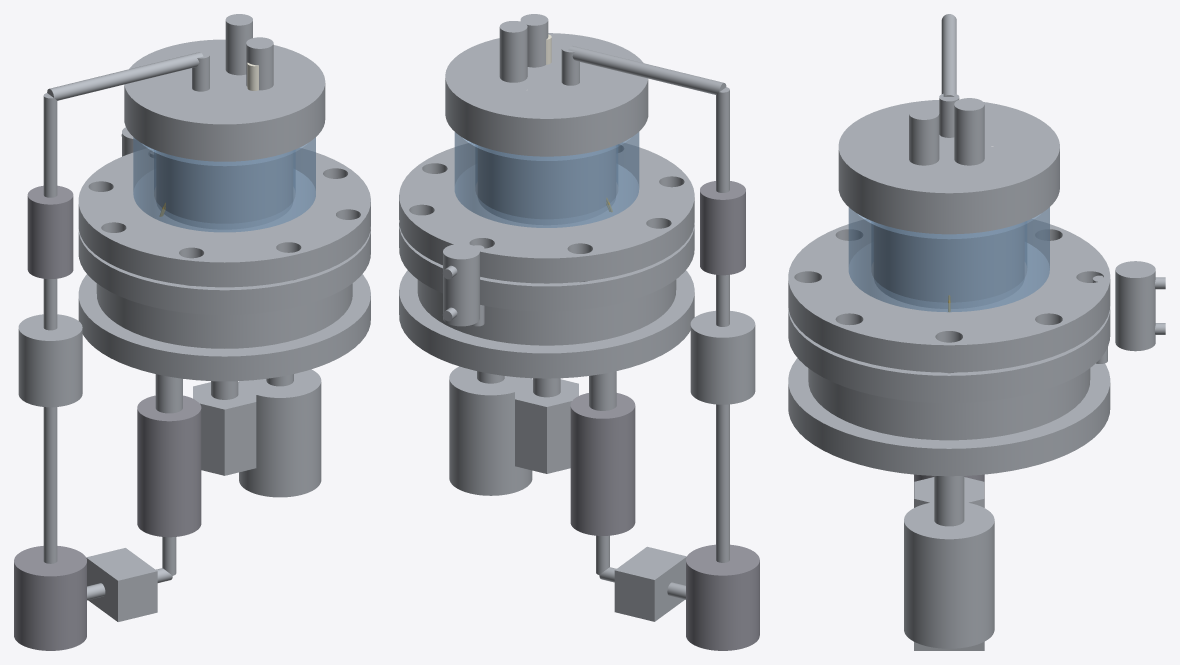
File: dfm_cell.glb
The picture shows the model from 3 angles, left to right: view 1: azimuth 30°, elevation 25°; view 2: azimuth 150°, elevation 25°; view 3: azimuth 270°, elevation 25°; orthographic projection. The views are drawn at different scales.
Visible parts, largest first — view 1: cell_body_316L, front_volume_316L, lid_316L, water_jacket, PdAg_element_350C, capacitance_gauge, metal_bellows_pump, recycle_return_line, buffer_volume, all_metal_valve_He_manifold, PdAg_return_element, mass_flow_meter_flux_regressor (+2 smaller); view 2: cell_body_316L, front_volume_316L, lid_316L, water_jacket, PdAg_element_350C, capacitance_gauge, metal_bellows_pump, recycle_return_line, buffer_volume, all_metal_valve_He_manifold, mass_flow_meter_flux_regressor, PdAg_return_element (+3 smaller); view 3: cell_body_316L, front_volume_316L, lid_316L, water_jacket, capacitance_gauge, forward_relief_valve, front_ports, recycle_return_line, all_metal_valve_He_manifold.
Boxes of the visible parts, x1,y1,x2,y2 form: cell_body_316L: (78, 104, 370, 287); front_volume_316L: (78, 227, 370, 381); lid_316L: (124, 14, 325, 145); water_jacket: (133, 137, 315, 232); PdAg_element_350C: (137, 395, 201, 537); capacitance_gauge: (239, 369, 321, 497); metal_bellows_pump: (14, 546, 86, 650); recycle_return_line: (43, 52, 203, 563); buffer_volume: (18, 314, 82, 407); all_metal_valve_He_manifold: (193, 382, 256, 475); PdAg_return_element: (27, 185, 73, 278); mass_flow_meter_flux_regressor: (86, 548, 157, 621); cell_body_316L: (399, 99, 694, 283); front_volume_316L: (399, 222, 694, 378); lid_316L: (445, 14, 648, 139); water_jacket: (454, 132, 639, 227); PdAg_element_350C: (570, 393, 635, 535); capacitance_gauge: (449, 366, 532, 495); metal_bellows_pump: (686, 544, 759, 650); recycle_return_line: (568, 46, 729, 562); buffer_volume: (690, 310, 755, 404); all_metal_valve_He_manifold: (515, 379, 578, 473); mass_flow_meter_flux_regressor: (614, 546, 686, 621); PdAg_return_element: (700, 181, 745, 275); cell_body_316L: (788, 171, 1110, 372); front_volume_316L: (788, 306, 1110, 476); lid_316L: (838, 93, 1059, 215); water_jacket: (848, 207, 1049, 312); capacitance_gauge: (904, 502, 994, 648); forward_relief_valve: (1115, 261, 1165, 351); front_ports: (934, 476, 964, 526); recycle_return_line: (941, 14, 956, 96); all_metal_valve_He_manifold: (914, 477, 984, 507).
Bounding box in the file's own units: 83.99 × 135 × 74.99.
